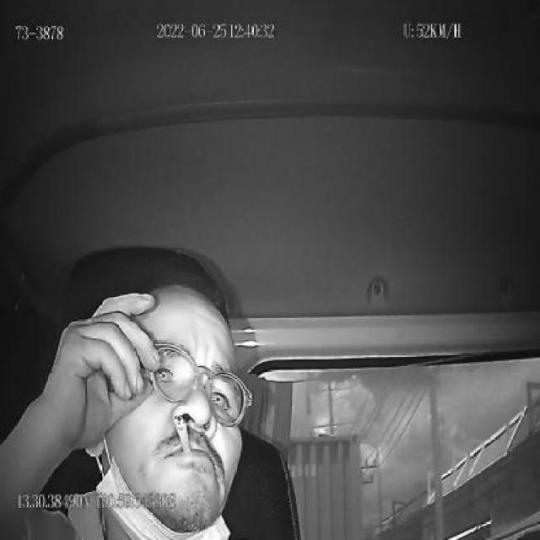smoking: (172, 411, 192, 456)
